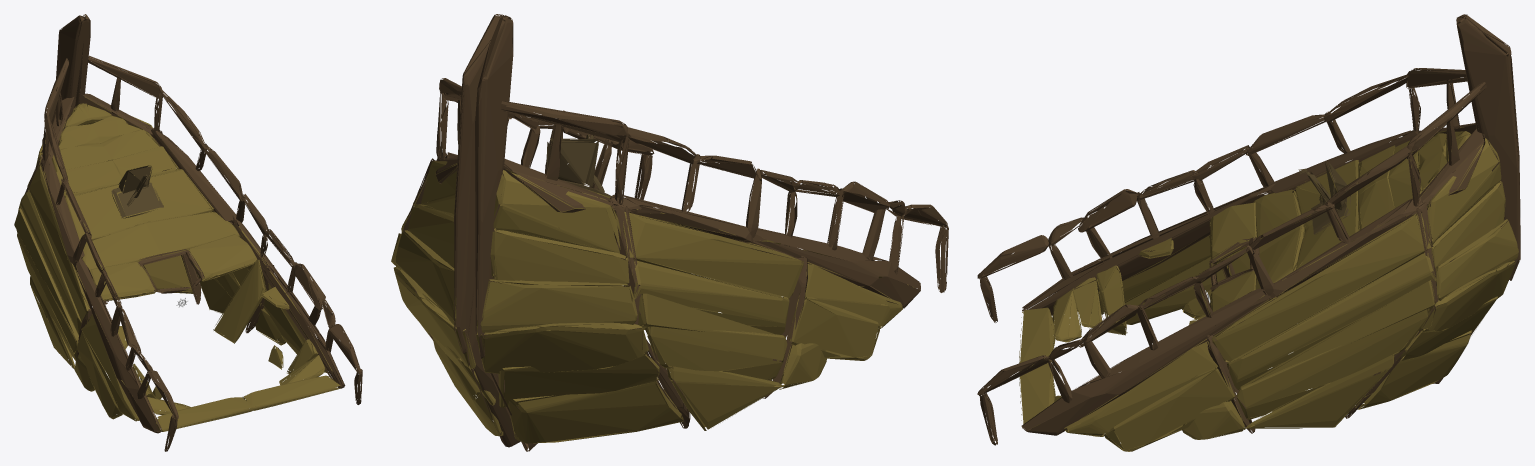
File: sunken ship.fbx
The picture shows the model from 3 angles, left to right: view 1: azimuth 30°, elevation 25°; view 2: azimuth 150°, elevation 25°; view 3: azimuth 270°, elevation 25°; orthographic projection. The views are drawn at different scales.
Visible parts, largest first — view 1: brush_MatteHull_g0_b0; view 2: brush_MatteHull_g0_b0; view 3: brush_MatteHull_g0_b0.
Part boxes in pixels (x1,y1,x2,y2): brush_MatteHull_g0_b0: (14,14,362,451); brush_MatteHull_g0_b0: (391,14,948,451); brush_MatteHull_g0_b0: (977,14,1520,451).
Size of the model in its own units: 341 by 456 by 603.
